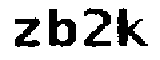2: (83, 6, 112, 49)
b: (46, 4, 78, 49)
k: (115, 4, 150, 52)
z: (11, 16, 43, 52)
